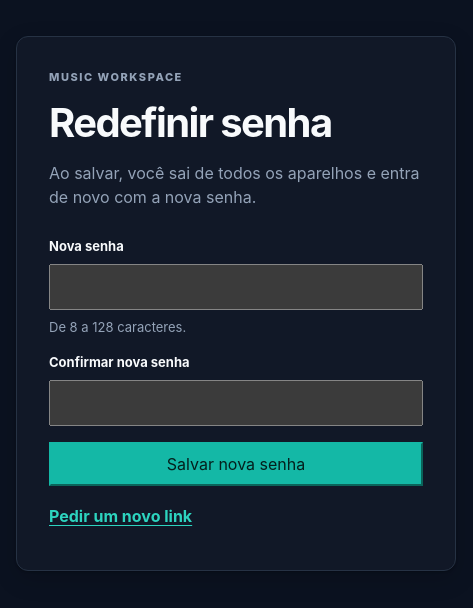
it: ResetPasswordPage › blocks mismatched passwords
This screenshot has width=473, height=608.
Type "senha-nova-123" into the password field labelled "Nova senha" at (236,286), box [49,264,423,310]
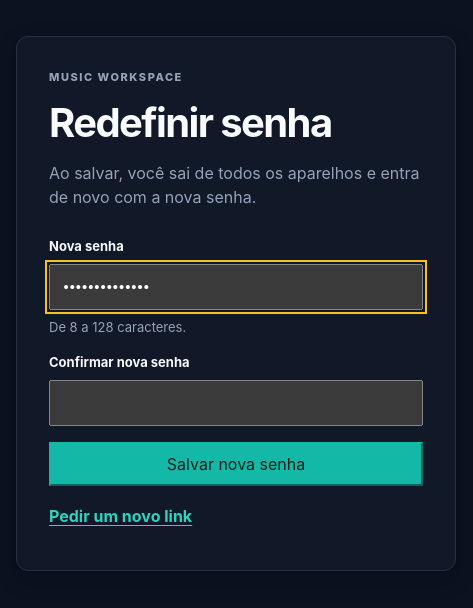
Type "outra-senha-123" into the password field labelled "Confirmar nova senha" at (236,402), box [49,380,423,426]
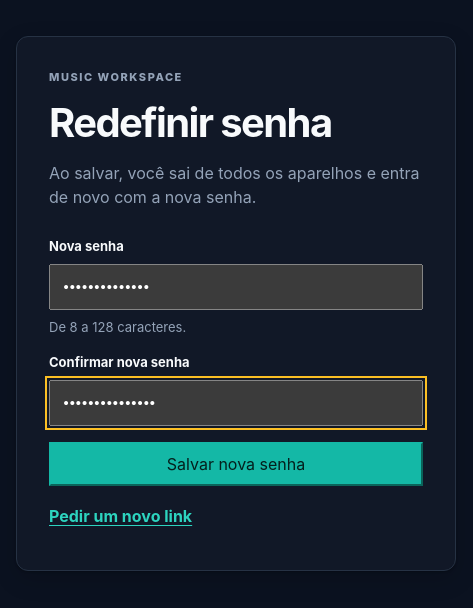
Click the button "Salvar nova senha" at (236,464), box [49,442,423,486]
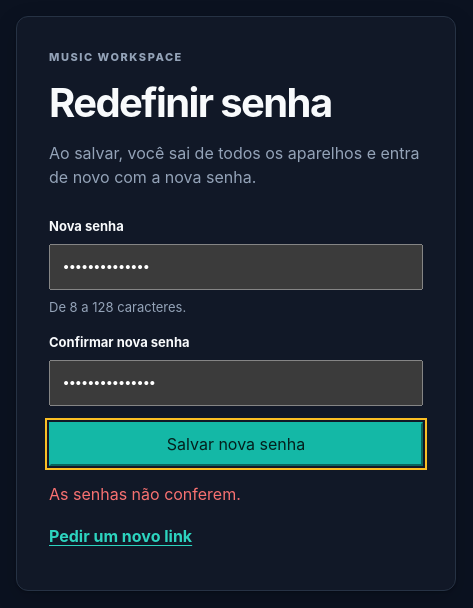
Expected: the message reads "As senhas não conferem.", [49,484,241,504]
